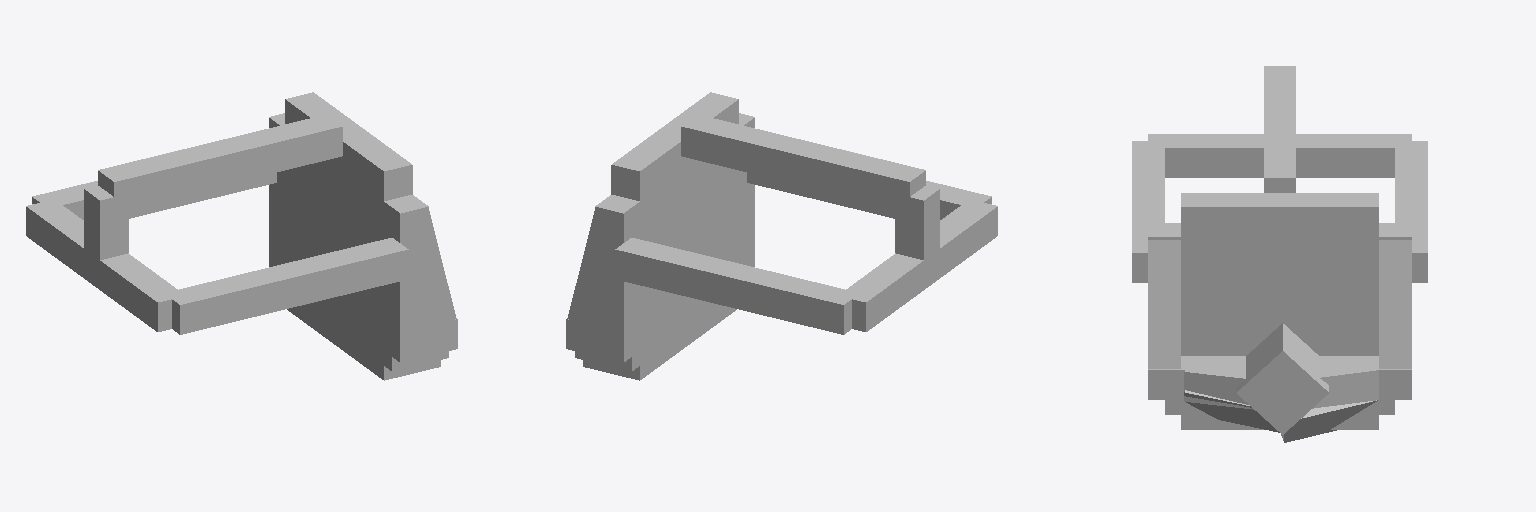
Rendered from scuba_mask.obj.
3 views of the same model, side by side, from view 1: azimuth 30°, elevation 25°; view 2: azimuth 150°, elevation 25°; view 3: azimuth 270°, elevation 25° (orthographic).
Visible parts, largest first — view 1: Shape598, Shape7658, Shape3333, Shape654, Shape264, Shape344, Shape253, Shape88876, Shape3, Shape588, Shape42, Shape275 (+2 smaller); view 2: Shape588, Shape7658, Shape3333, Shape654, Shape264, Shape356, Shape88876, Shape253, Shape31309, Shape598, Shape443, Shape275 (+2 smaller); view 3: Shape3333, Shape654, Shape264, Shape1664, Shape3, Shape31309, Shape7658, Shape588, Shape598, Shape2231, Shape21111, Shape2870 (+8 smaller).
Boxes of the visible parts, box(x1,y1,x2,y2) form: Shape598: box(164, 238, 408, 334); Shape7658: box(98, 115, 342, 211); Shape3333: box(285, 160, 383, 320); Shape654: box(26, 199, 177, 331); Shape264: box(285, 92, 412, 200); Shape344: box(384, 195, 428, 332); Shape253: box(287, 302, 440, 380); Shape88876: box(84, 185, 128, 259); Shape3: box(401, 210, 456, 332); Shape588: box(32, 173, 276, 219); Shape42: box(384, 319, 457, 362); Shape275: box(285, 249, 383, 350); Shape588: box(615, 238, 859, 334); Shape7658: box(681, 115, 925, 211); Shape3333: box(640, 160, 738, 320); Shape654: box(846, 199, 997, 331); Shape264: box(611, 92, 738, 200); Shape356: box(595, 195, 639, 332); Shape88876: box(895, 185, 939, 259); Shape253: box(583, 302, 736, 380); Shape31309: box(567, 210, 621, 332); Shape598: box(747, 173, 991, 219); Shape443: box(566, 319, 639, 362); Shape275: box(640, 249, 738, 350); Shape3333: box(1181, 237, 1378, 355); Shape654: box(1148, 134, 1411, 177); Shape264: box(1181, 193, 1378, 236); Shape1664: box(1236, 337, 1328, 434); Shape3: box(1148, 240, 1180, 368); Shape31309: box(1379, 240, 1411, 368); Shape7658: box(1264, 66, 1295, 192); Shape588: box(1395, 141, 1427, 282); Shape598: box(1132, 141, 1164, 282); Shape2231: box(1184, 364, 1253, 409); Shape21111: box(1312, 358, 1378, 408); Shape2870: box(1181, 356, 1378, 399).
Bounding box in the file's own units: 0.7188 × 0.4868 × 0.5625.